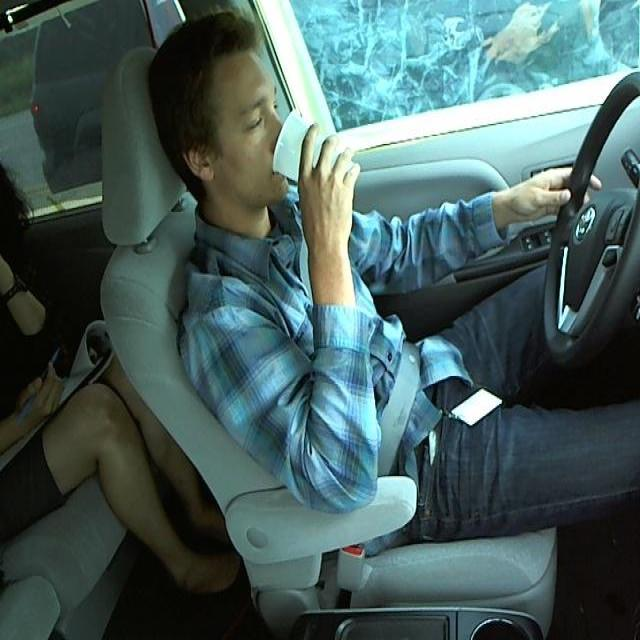Seatbelt: (269, 110, 348, 182)
